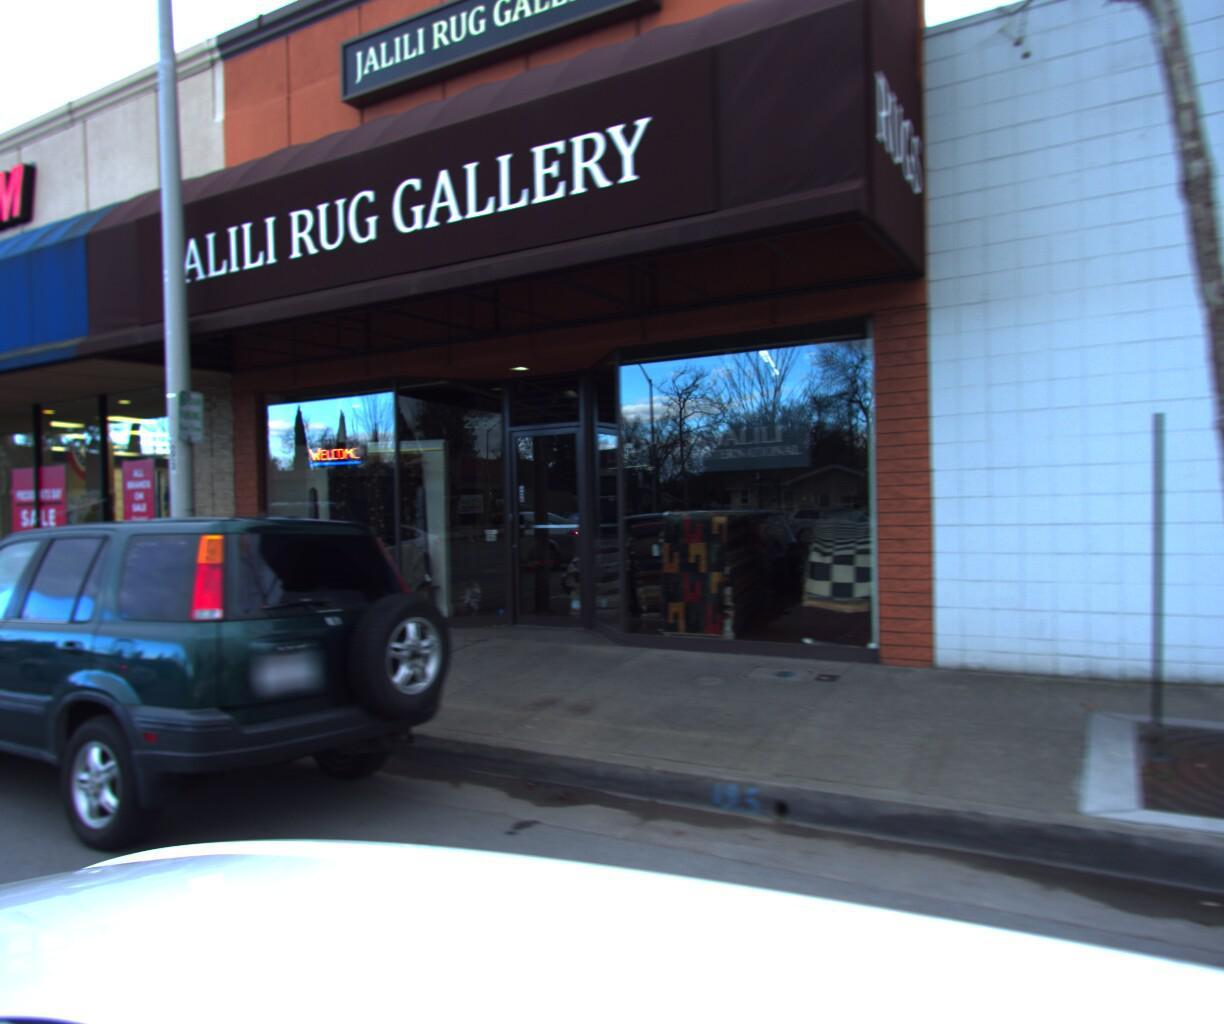car: (0, 491, 489, 898)
truck: (0, 480, 4, 743)
